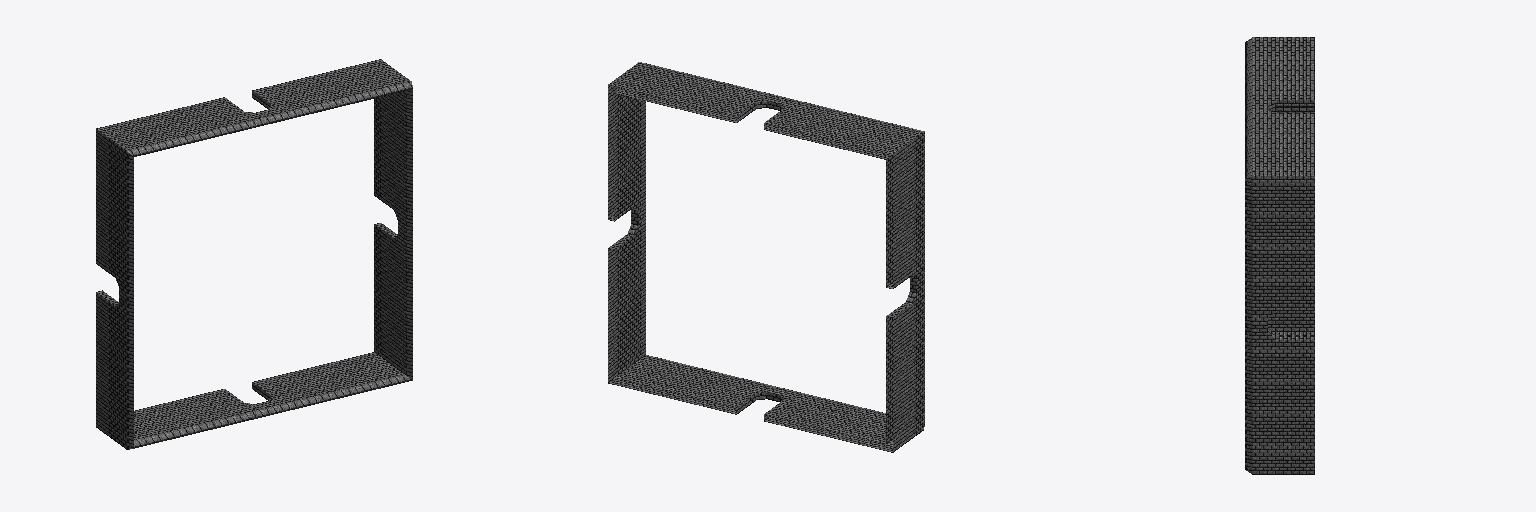
The picture shows the model from 3 angles: view 1: azimuth 30°, elevation 25°; view 2: azimuth 150°, elevation 25°; view 3: azimuth 270°, elevation 25°; orthographic projection.
Bounding box in the file's own units: 1344 × 1344 × 288.
Materials: 1 (1 with a texture image).